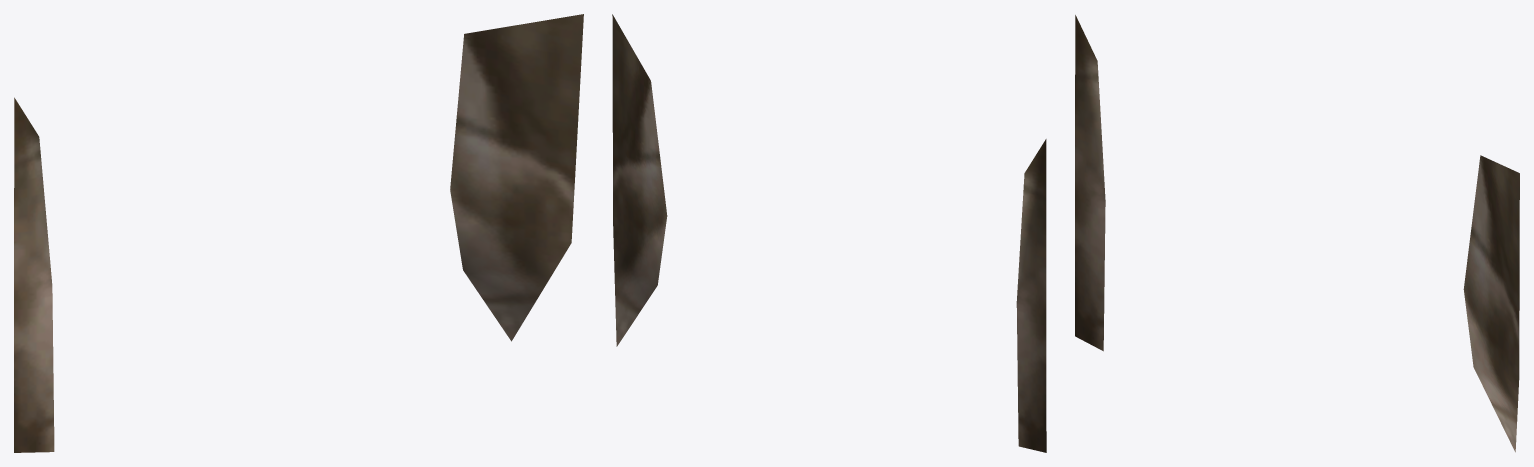
File: EKH_ENTRANCE_PS_EN_PLAT43784746.fbx
The picture shows the model from 3 angles, left to right: view 1: azimuth 30°, elevation 25°; view 2: azimuth 150°, elevation 25°; view 3: azimuth 330°, elevation 25°; orthographic projection. The views are drawn at different scales.
Parts seen in each view (by area): view 1: EKH_ENTRANCE_PS_EN_PLAT43784746; view 2: EKH_ENTRANCE_PS_EN_PLAT43784746; view 3: EKH_ENTRANCE_PS_EN_PLAT43784746.
Boxes of the visible parts, <box> form: EKH_ENTRANCE_PS_EN_PLAT43784746: <box>14,14,583,452</box>; EKH_ENTRANCE_PS_EN_PLAT43784746: <box>612,14,1046,452</box>; EKH_ENTRANCE_PS_EN_PLAT43784746: <box>1075,15,1519,452</box>.
Size of the model in its own units: 41001 by 26629 by 5278.
1 material, 1 textured.
